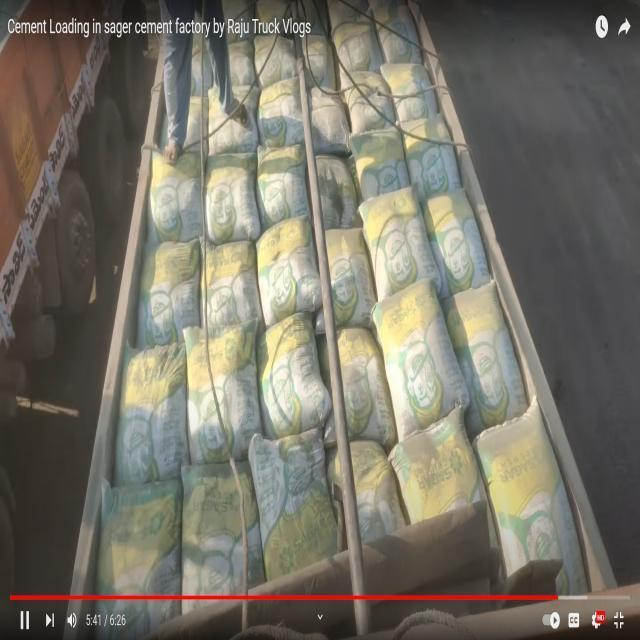gunny_bag: (475, 398, 588, 594), (372, 278, 470, 441), (442, 280, 528, 437), (249, 429, 337, 580), (389, 407, 486, 523), (114, 343, 189, 485), (96, 479, 182, 596), (257, 312, 331, 438), (360, 186, 441, 300), (181, 463, 243, 595), (209, 320, 262, 460), (256, 215, 322, 326), (425, 189, 492, 298), (137, 238, 200, 347), (183, 327, 228, 464), (206, 239, 264, 332), (403, 114, 462, 204), (149, 151, 202, 241), (257, 143, 310, 230), (206, 165, 260, 244), (356, 128, 410, 200), (86, 600, 180, 639), (237, 462, 265, 588), (316, 154, 362, 229), (381, 62, 438, 121), (257, 76, 304, 146), (345, 70, 396, 132), (309, 85, 350, 153), (375, 2, 422, 61), (333, 20, 383, 70)
